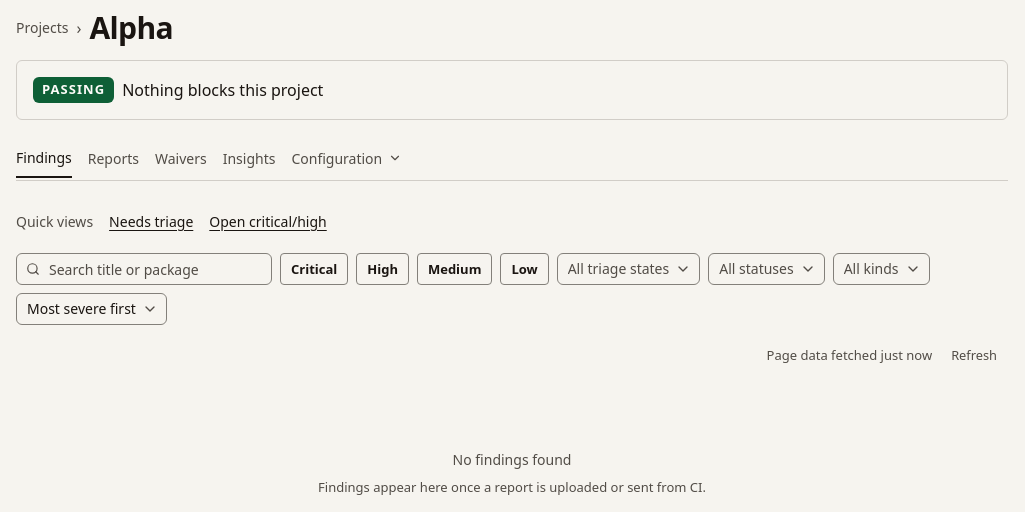
ProjectLayout › hides settings from a member without hiding configuration read access
This screenshot has width=1025, height=512.
Click the button "Configuration" at (347, 162), box [291, 144, 402, 180]
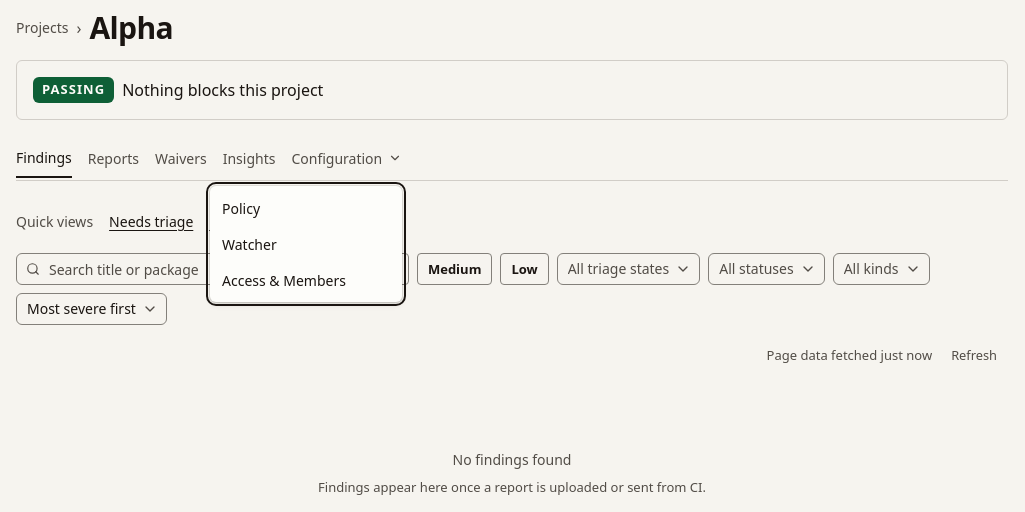
Expected: the menu item "Policy" is shown, [222, 198, 260, 218]
Expected: the menu item "Watcher" is shown, [222, 234, 277, 254]
Expected: the menu item "Access & Members" is shown, [222, 270, 346, 290]
